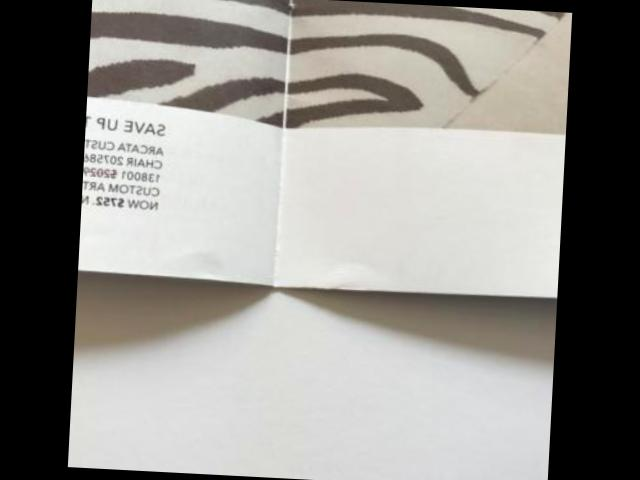cardboard paper: (78, 0, 570, 293)
